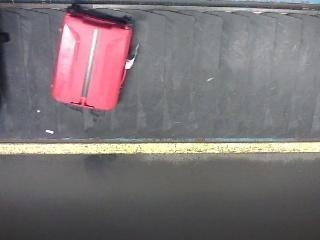Suitcase: (56, 2, 132, 115)
